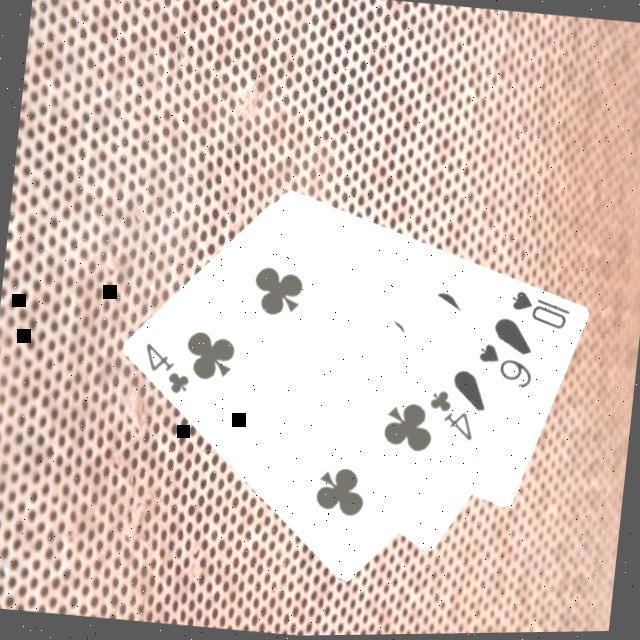10S: (506, 288, 578, 338)
4C: (139, 340, 199, 402), (424, 387, 483, 448)
6S: (474, 341, 541, 396)
